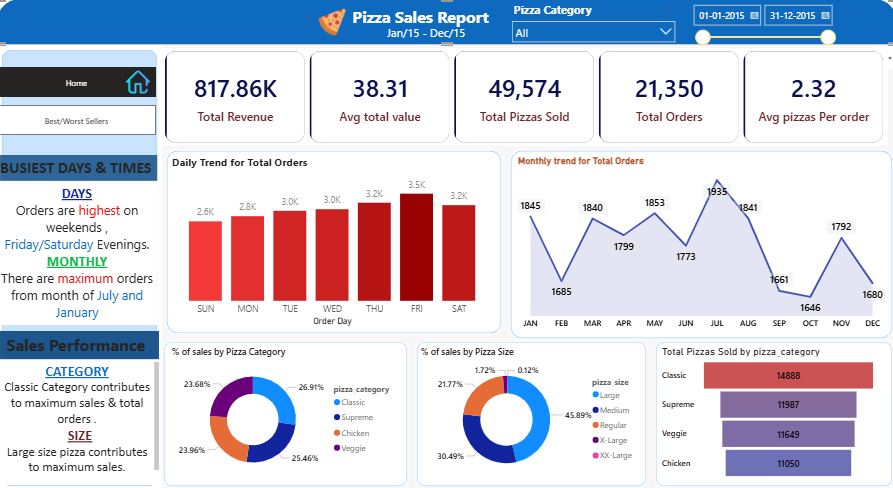

The dashboard page shown, as its layout file describes it:
{"tool":"powerbi","page":{"name":"Home","canvas":[1500,820],"ordinal":0},"visuals":[{"type":"shape","box":[0,76.7,275,743.3],"z":0},{"type":"shape","box":[0,0,1500,76.2],"z":1000},{"type":"textbox","box":[490.5,6.3,431.7,52.4],"z":2000},{"type":"textbox","box":[644.4,38.1,260.3,42.9],"z":3000},{"type":"image","box":[520.6,9.5,77.8,57.1],"z":4000},{"type":"shape","box":[275,245,573.3,320],"z":5000},{"type":"columnChart","title":"Daily Trend for Total Orders","fields":{"Y":["pizza_sales.Total Orders"],"Category":["pizza_sales.Order Day"]},"box":[286.7,260,545,290],"z":6000},{"type":"shape","box":[848.3,245,651.7,328.3],"z":7000},{"type":"areaChart","title":"Monthly trend for Total Orders","fields":{"Category":["pizza_sales.Order Month"],"Y":["pizza_sales.Total Orders"]},"box":[863.3,260,621.7,298.3],"z":8000},{"type":"shape","box":[270,563.3,421.7,256.7],"z":9000},{"type":"shape","box":[691.7,563.3,398.3,256.7],"z":10000},{"type":"shape","box":[1090,563.3,410,256.7],"z":11000},{"type":"donutChart","title":"% of sales by Pizza Category","fields":{"Category":["pizza_sales.pizza_category"],"Y":["pizza_sales.Total Revenue"]},"box":[286.7,576.7,388.3,228.3],"z":12000},{"type":"donutChart","title":"% of sales by Pizza Size","fields":{"Category":["pizza_sales.pizza_size"],"Y":["pizza_sales.Total Revenue"]},"box":[701.7,576.7,375,228.3],"z":13000},{"type":"funnel","fields":{"Category":["pizza_sales.pizza_category"],"Y":["pizza_sales.Total Pizzas Sold"]},"box":[1103.3,576.7,366.7,228.3],"z":14000},{"type":"textbox","box":[0,260,266.7,43.3],"z":15000},{"type":"textbox","box":[0,303.3,266.7,240],"z":16000},{"type":"textbox","box":[0,600,275,210],"z":17000},{"type":"textbox","box":[0,553.3,270,46.7],"z":18000},{"type":"slicer","fields":{"Values":["pizza_sales.pizza_category"]},"box":[848.3,0,291.7,75],"z":19000},{"type":"slicer","fields":{"Values":["pizza_sales.order_date"]},"box":[1148.3,0,258.3,81.7],"z":20000},{"type":"cardVisual","fields":{"Data":["pizza_sales.Total Revenue","pizza_sales.Avg total value","pizza_sales.Total Pizzas Sold","pizza_sales.Total Orders","pizza_sales.Avg pizzas Per order"]},"box":[275,81.7,1210,163.3],"z":21000},{"type":"pageNavigator","box":[0,113.3,265,50],"z":21001},{"type":"pageNavigator","box":[0,176.7,265,50],"z":21002},{"type":"image","box":[205,113.3,60,50],"z":21003}]}

Visuals, with their boxes on the page's 1500x820 design canvas (x1, y1, x2, y2). These are canvas units, not pixel positions in the 893x488 screenshot, which may show the page scaled, cropped or inside an application window:
shape: {"x1": 0, "y1": 77, "x2": 275, "y2": 820}
shape: {"x1": 0, "y1": 0, "x2": 1500, "y2": 76}
textbox: {"x1": 490, "y1": 6, "x2": 922, "y2": 59}
textbox: {"x1": 644, "y1": 38, "x2": 905, "y2": 81}
image: {"x1": 521, "y1": 10, "x2": 598, "y2": 67}
shape: {"x1": 275, "y1": 245, "x2": 848, "y2": 565}
"Daily Trend for Total Orders" columnChart: {"x1": 287, "y1": 260, "x2": 832, "y2": 550}
shape: {"x1": 848, "y1": 245, "x2": 1500, "y2": 573}
"Monthly trend for Total Orders" areaChart: {"x1": 863, "y1": 260, "x2": 1485, "y2": 558}
shape: {"x1": 270, "y1": 563, "x2": 692, "y2": 820}
shape: {"x1": 692, "y1": 563, "x2": 1090, "y2": 820}
shape: {"x1": 1090, "y1": 563, "x2": 1500, "y2": 820}
"% of sales by Pizza Category" donutChart: {"x1": 287, "y1": 577, "x2": 675, "y2": 805}
"% of sales by Pizza Size" donutChart: {"x1": 702, "y1": 577, "x2": 1077, "y2": 805}
funnel - pizza_sales.pizza_category x pizza_sales.Total Pizzas Sold: {"x1": 1103, "y1": 577, "x2": 1470, "y2": 805}
textbox: {"x1": 0, "y1": 260, "x2": 267, "y2": 303}
textbox: {"x1": 0, "y1": 303, "x2": 267, "y2": 543}
textbox: {"x1": 0, "y1": 600, "x2": 275, "y2": 810}
textbox: {"x1": 0, "y1": 553, "x2": 270, "y2": 600}
slicer - pizza_sales.pizza_category: {"x1": 848, "y1": 0, "x2": 1140, "y2": 75}
slicer - pizza_sales.order_date: {"x1": 1148, "y1": 0, "x2": 1407, "y2": 82}
cardVisual - pizza_sales.Total Revenue x pizza_sales.Avg total value: {"x1": 275, "y1": 82, "x2": 1485, "y2": 245}
pageNavigator: {"x1": 0, "y1": 113, "x2": 265, "y2": 163}
pageNavigator: {"x1": 0, "y1": 177, "x2": 265, "y2": 227}
image: {"x1": 205, "y1": 113, "x2": 265, "y2": 163}
